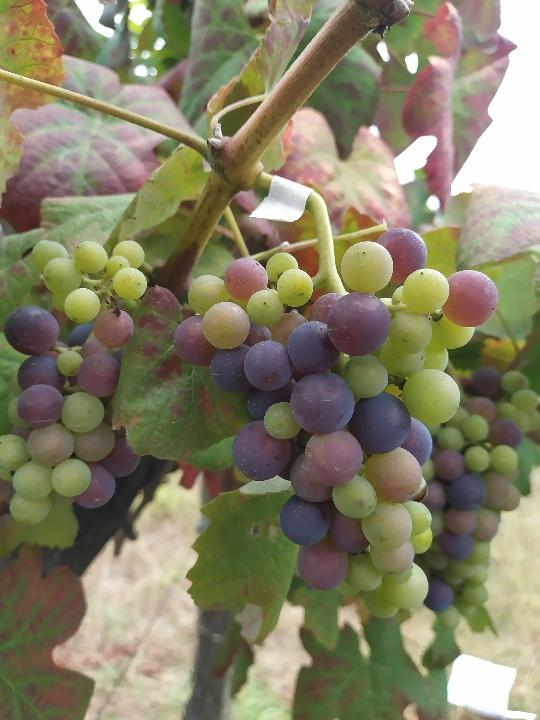grape: (170, 222, 502, 622), (0, 236, 149, 527)
